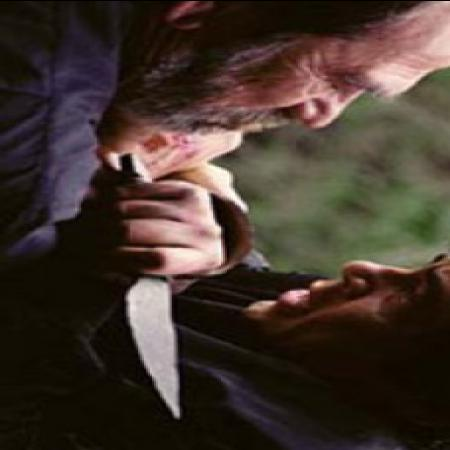long weapon: (111, 214, 205, 426)
